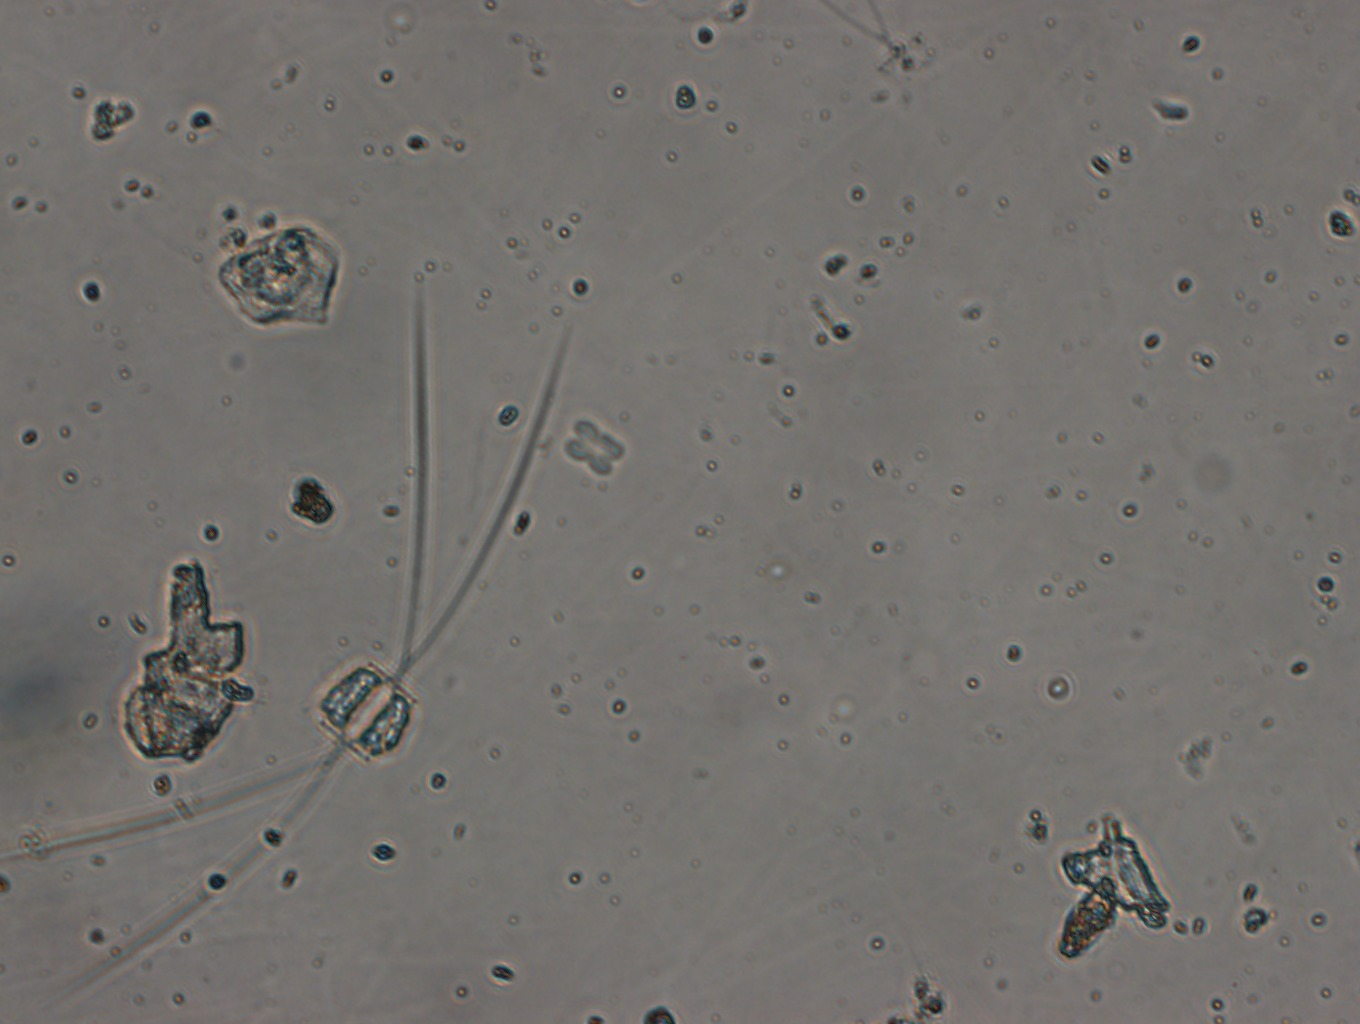chaetoceros: (13, 286, 582, 1007)
